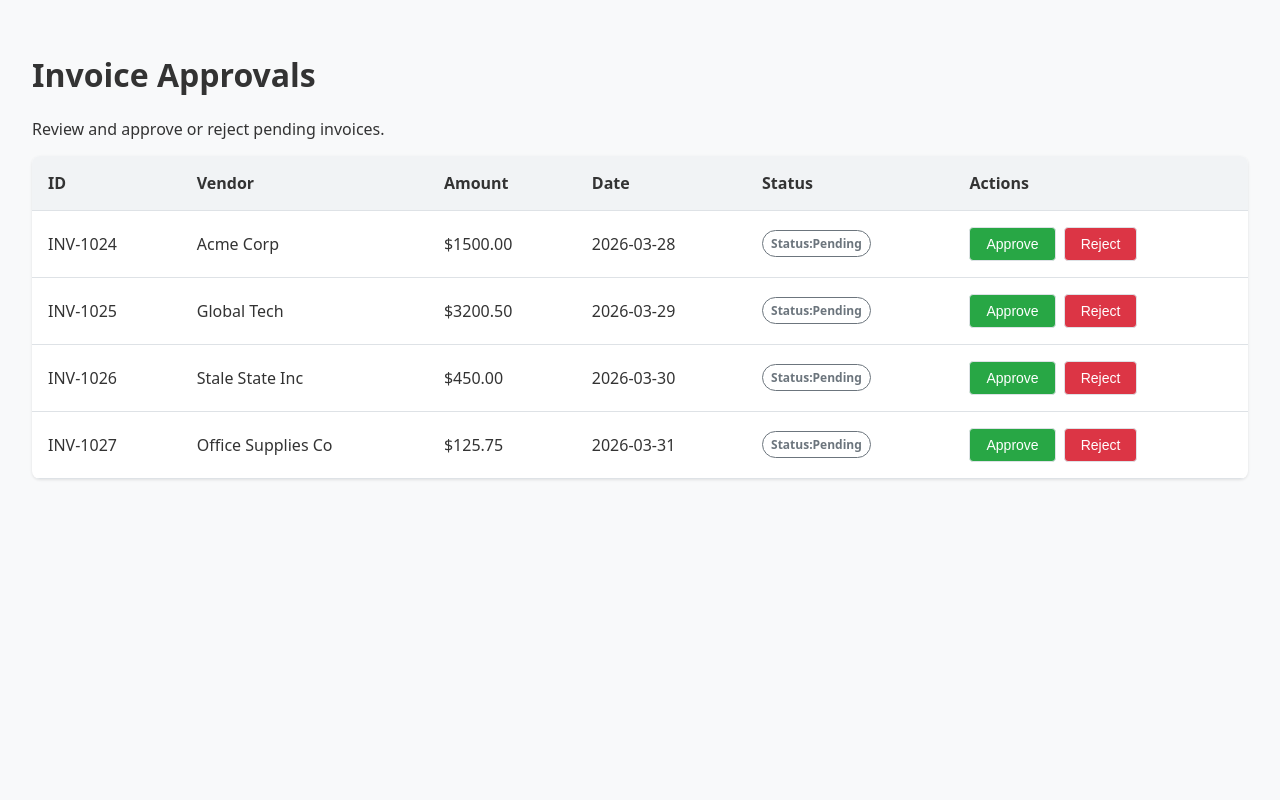
Invoice Approval App › handles conflict errors and recovery
Click the button with test id "invoice-approve-INV-1026" at (1013, 378), box [970,361,1056,395]
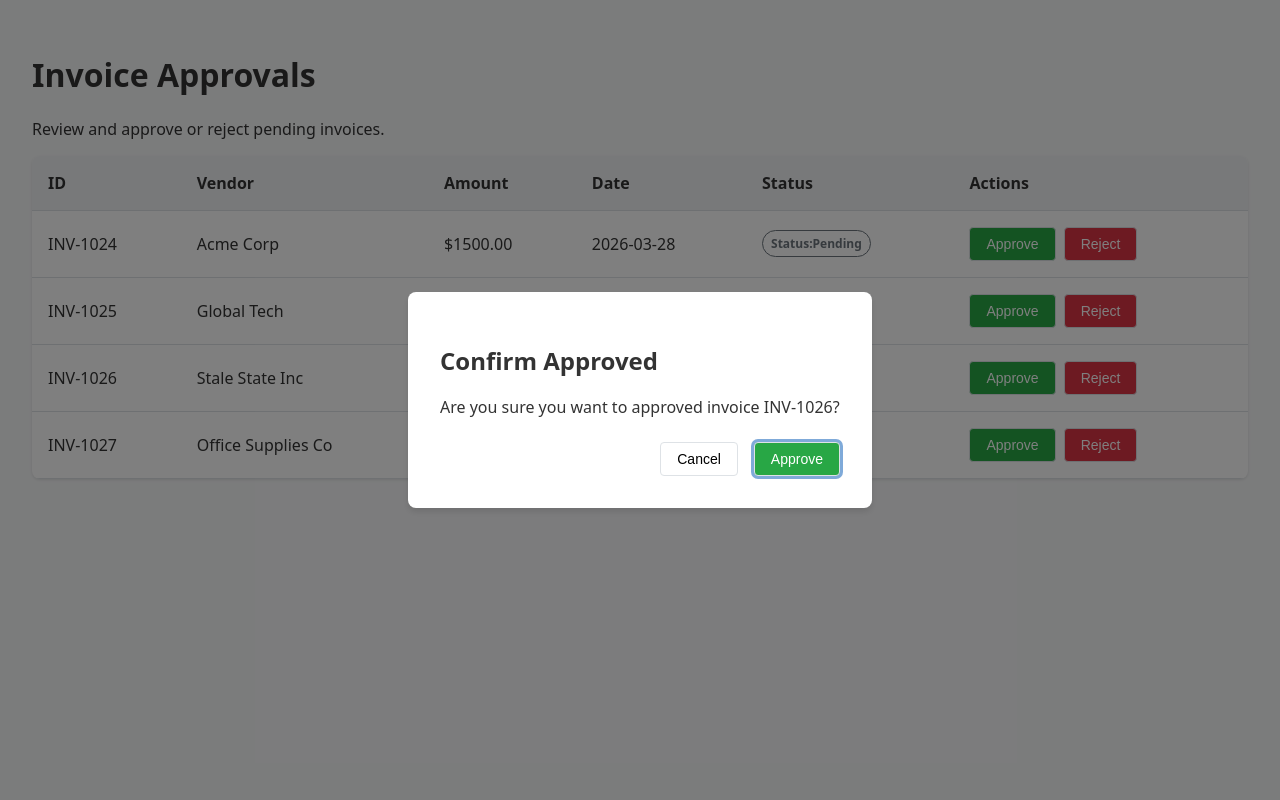
Click the button with test id "invoice-dialog-confirm" at (797, 459), box [754,442,840,476]
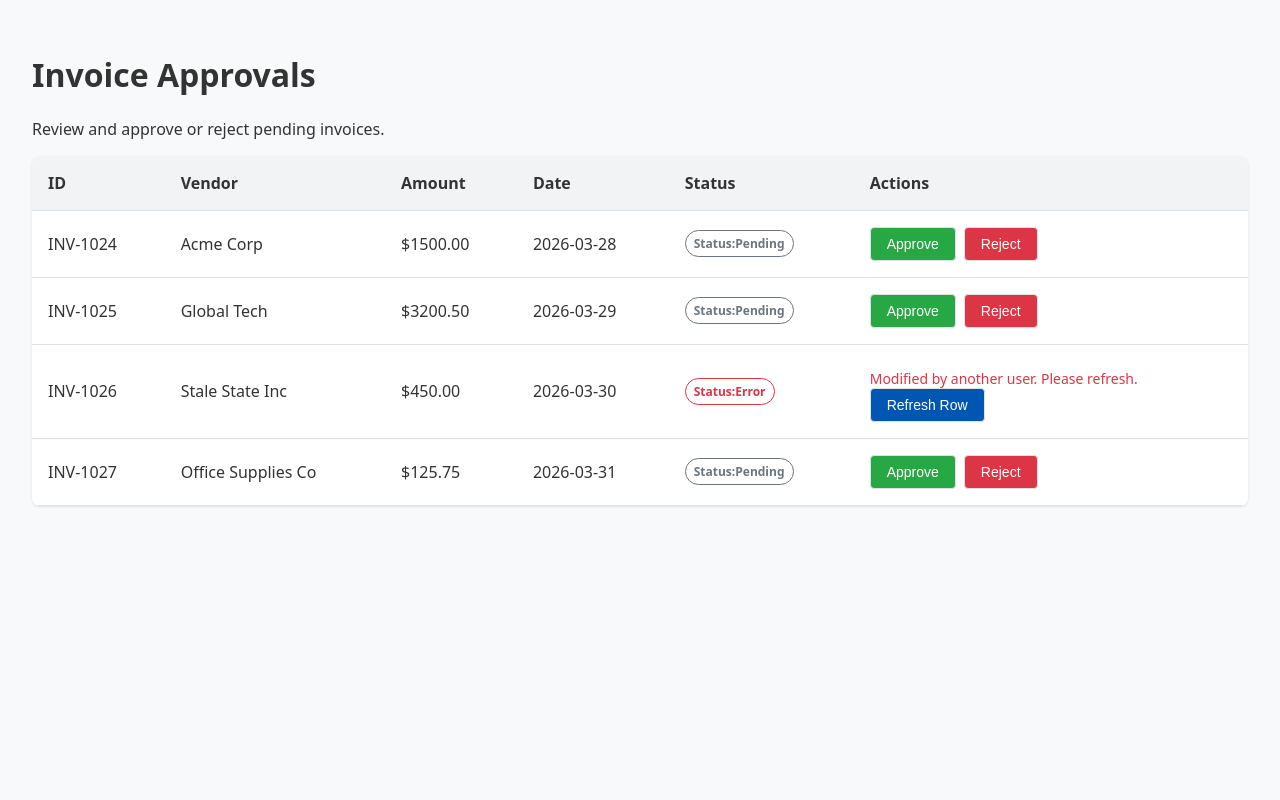
Expected: the text "Modified by another user. Please refresh." is shown, [870,369,1138,388]
Expected: the button with test id "invoice-refresh-INV-1026" is shown
# Click refresh to recover
Click the button with test id "invoice-refresh-INV-1026" at (927, 405), box [870,388,985,422]
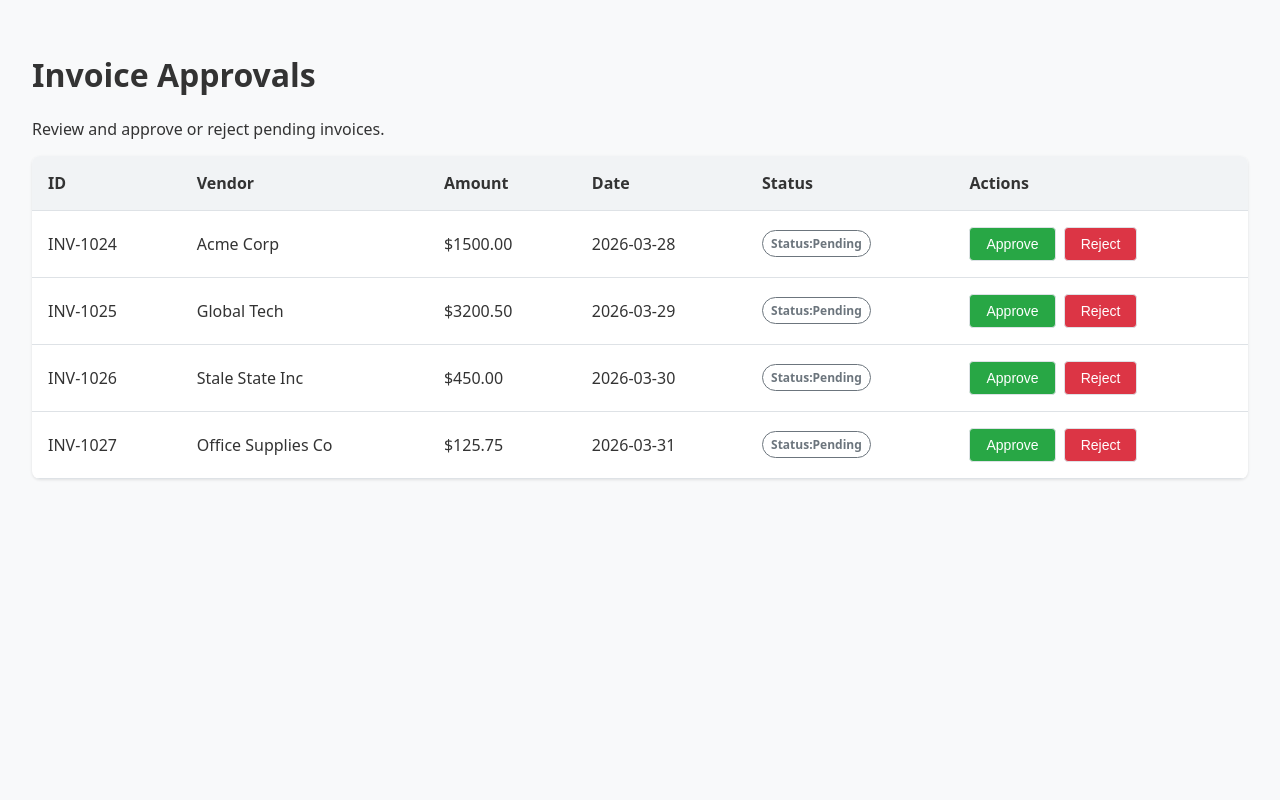
Expected: the button with test id "invoice-approve-INV-1026" is shown, [970,361,1056,395]
Expected: the text "Modified by another user. Please refresh." is gone
